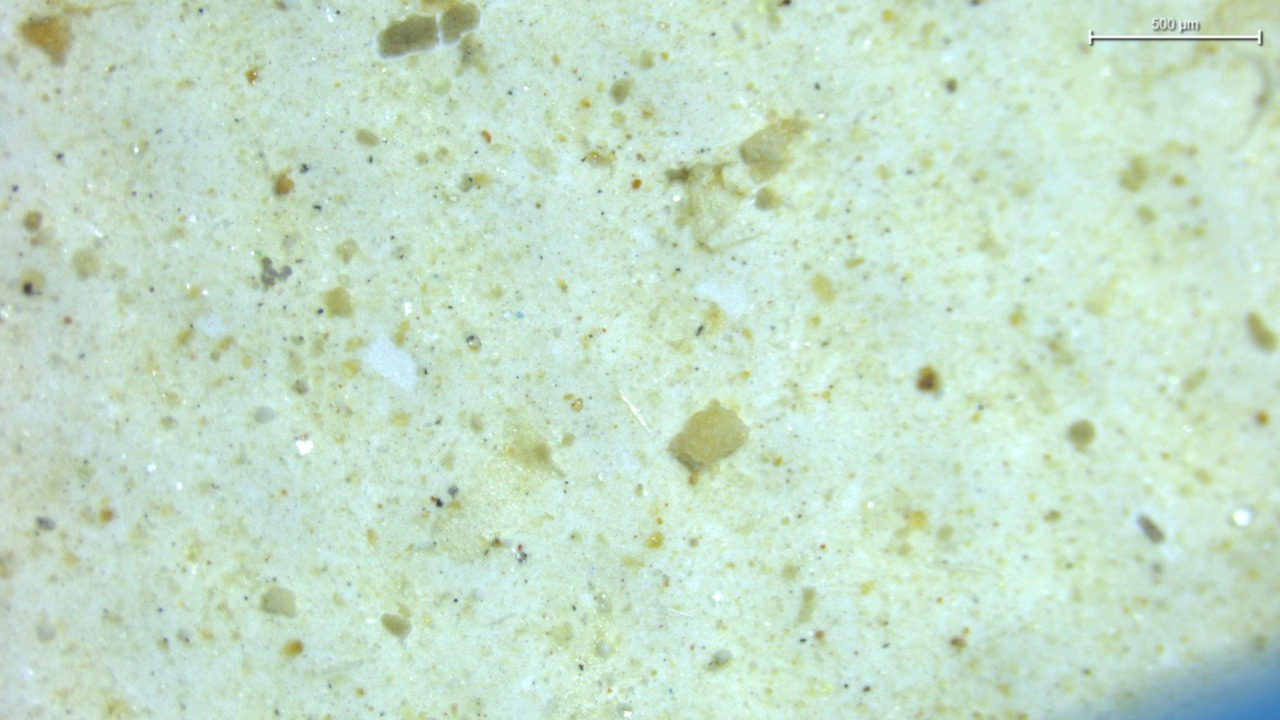microplastic_fragment: (668, 402, 748, 478)
